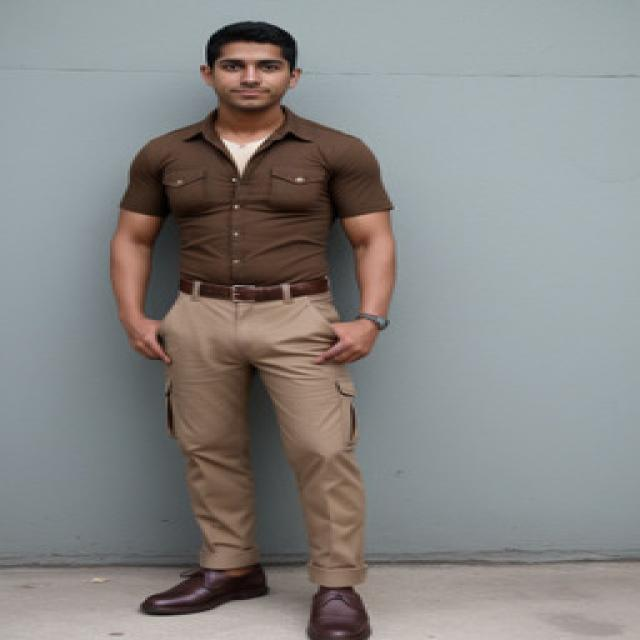Ai human 2: (99, 11, 444, 640)
